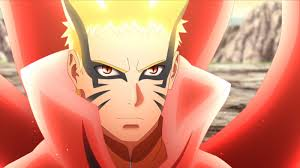Naruto: (66, 11, 186, 140)
